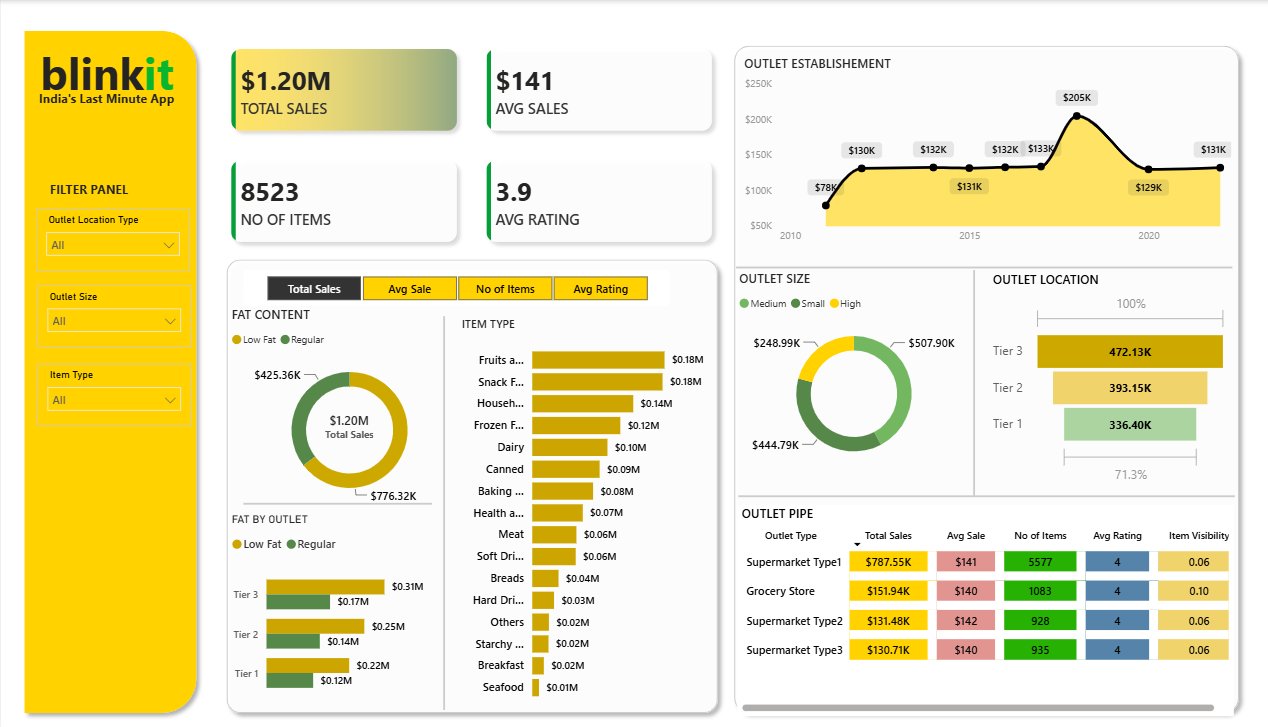

What the dashboard file says about the page in this screenshot:
{"tool":"powerbi","page":{"name":"Page 1","canvas":[1400,800],"ordinal":0},"visuals":[{"type":"shape","box":[16.4,24.5,205.9,762.1],"z":0},{"type":"textbox","box":[38.2,40.9,184.1,85.9],"z":1000},{"type":"textbox","box":[19.1,92.7,192.2,35.4],"z":2000},{"type":"cardVisual","fields":{"Data":["BlinkIT Grocery Data.Total Sales","BlinkIT Grocery Data.Avg Sale","BlinkIT Grocery Data.No of Items","BlinkIT Grocery Data.Avg Rating"]},"box":[222.2,24.5,583.5,269.9],"z":3000},{"type":"shape","box":[237.2,274,553.5,512.6],"z":4000},{"type":"donutChart","title":"FAT CONTENT","fields":{"Y":["BlinkIT Grocery Data.Total Sales"],"Category":["BlinkIT Grocery Data.Item Fat Content"]},"box":[246.8,334,267.2,225],"z":5000},{"type":"slicer","fields":{"Values":["Metrics.Metrics"]},"box":[264.5,294.5,464.9,39.5],"z":6000},{"type":"cardVisual","fields":{"Data":["BlinkIT Grocery Data.Total Sales"]},"box":[320.4,415.8,120,96.8],"z":7000},{"type":"clusteredBarChart","title":"FAT BY OUTLET","fields":{"Y":["BlinkIT Grocery Data.Total Sales"],"Category":["BlinkIT Grocery Data.Outlet Location Type"],"Series":["BlinkIT Grocery Data.Item Fat Content"]},"box":[246.8,559,219.5,215.4],"z":8000},{"type":"shape","box":[264.5,514,205.9,70.9],"z":9000},{"type":"shape","box":[380.4,344.9,205.9,429.5],"z":10000},{"type":"barChart","title":"ITEM TYPE","fields":{"Y":["BlinkIT Grocery Data.Total Sales"],"Category":["BlinkIT Grocery Data.Item Type"]},"box":[497.6,344.9,274,429.5],"z":11000},{"type":"shape","box":[790.7,40.9,568.5,745.7],"z":12000},{"type":"lineChart","title":"OUTLET ESTABLISHEMENT","fields":{"Y":["BlinkIT Grocery Data.Total Sales"],"Category":["BlinkIT Grocery Data.Outlet Establishment Year"]},"box":[805.7,60,541.2,214],"z":13000},{"type":"shape","box":[801.6,256.3,541.2,70.9],"z":14000},{"type":"donutChart","title":"OUTLET SIZE","fields":{"Y":["BlinkIT Grocery Data.Total Sales"],"Category":["BlinkIT Grocery Data.Outlet Size"]},"box":[800.3,294.5,260.4,225],"z":15000},{"type":"funnel","title":"OUTLET LOCATION","fields":{"Y":["Sum(BlinkIT Grocery Data.Sales)"],"Category":["BlinkIT Grocery Data.Outlet Location Type"]},"box":[1077,295.8,265.9,237.2],"z":16000},{"type":"shape","box":[804.4,505.8,541.2,70.9],"z":17000},{"type":"pivotTable","title":"OUTLET PIPE","fields":{"Rows":["BlinkIT Grocery Data.Outlet Type"],"Values":["BlinkIT Grocery Data.Total Sales","BlinkIT Grocery Data.Avg Sale","BlinkIT Grocery Data.No of Items","BlinkIT Grocery Data.Avg Rating","Avg(BlinkIT Grocery Data.Item Visibility)"]},"box":[803,550.8,541.2,230.4],"z":18000},{"type":"shape","box":[958.4,294.5,205.9,246.8],"z":18001},{"type":"slicer","fields":{"Values":["BlinkIT Grocery Data.Outlet Location Type"]},"box":[38.2,227.7,167.7,68.2],"z":18002},{"type":"slicer","fields":{"Values":["BlinkIT Grocery Data.Outlet Size"]},"box":[39.5,310.8,167.7,68.2],"z":18003},{"type":"slicer","fields":{"Values":["BlinkIT Grocery Data.Item Type"]},"box":[39.5,396.7,167.7,68.2],"z":18004},{"type":"textbox","box":[0,192.2,192.2,35.4],"z":18005}]}

Visuals, with their boxes in screenshot pixels (x1, y1, x2, y2), scaled from the page's 1400x800 canvas onto the 1268x727 screenshot:
shape: (left=15, top=22, right=201, bottom=715)
textbox: (left=35, top=37, right=201, bottom=115)
textbox: (left=17, top=84, right=191, bottom=116)
cardVisual - BlinkIT Grocery Data.Total Sales x BlinkIT Grocery Data.Avg Sale: (left=201, top=22, right=730, bottom=268)
shape: (left=215, top=249, right=716, bottom=715)
"FAT CONTENT" donutChart: (left=224, top=304, right=466, bottom=508)
slicer - Metrics.Metrics: (left=240, top=268, right=661, bottom=304)
cardVisual - BlinkIT Grocery Data.Total Sales: (left=290, top=378, right=399, bottom=466)
"FAT BY OUTLET" clusteredBarChart: (left=224, top=508, right=422, bottom=704)
shape: (left=240, top=467, right=426, bottom=532)
shape: (left=345, top=313, right=531, bottom=704)
"ITEM TYPE" barChart: (left=451, top=313, right=699, bottom=704)
shape: (left=716, top=37, right=1231, bottom=715)
"OUTLET ESTABLISHEMENT" lineChart: (left=730, top=55, right=1220, bottom=249)
shape: (left=726, top=233, right=1216, bottom=297)
"OUTLET SIZE" donutChart: (left=725, top=268, right=961, bottom=472)
"OUTLET LOCATION" funnel: (left=975, top=269, right=1216, bottom=484)
shape: (left=729, top=460, right=1219, bottom=524)
"OUTLET PIPE" pivotTable: (left=727, top=501, right=1217, bottom=710)
shape: (left=868, top=268, right=1055, bottom=492)
slicer - BlinkIT Grocery Data.Outlet Location Type: (left=35, top=207, right=186, bottom=269)
slicer - BlinkIT Grocery Data.Outlet Size: (left=36, top=282, right=188, bottom=344)
slicer - BlinkIT Grocery Data.Item Type: (left=36, top=361, right=188, bottom=422)
textbox: (left=0, top=175, right=174, bottom=207)
